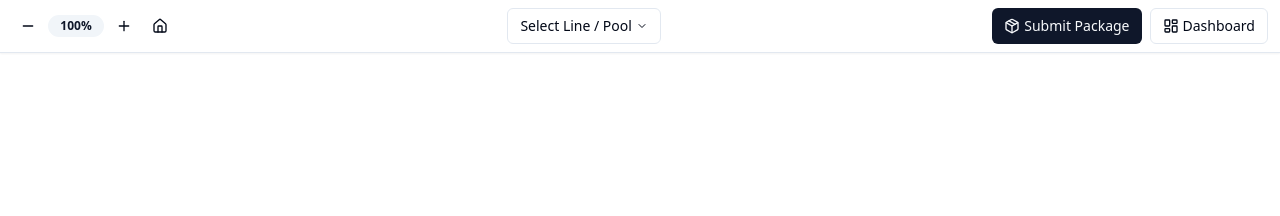
Test: FactoryToolbar › entity selector opens dropdown with assembly lines
The width and height of the screenshot is (1280, 216).
Click the button with test id "entity-selector-btn".
click(584, 26)  # box [507,8,661,44]
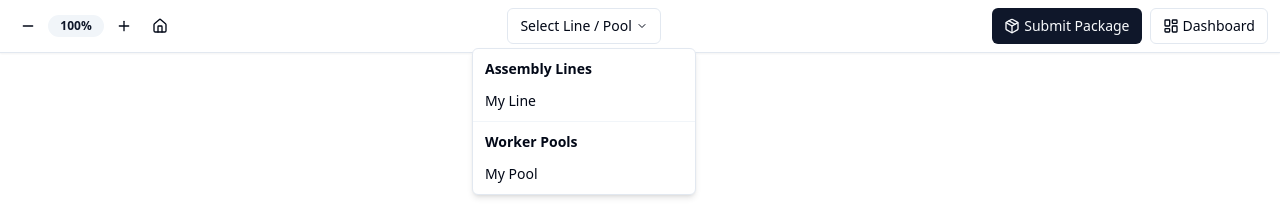
Result: the text "Assembly Lines" is shown at [485,59,592,78]
Result: the menu item "My Line" is shown at [485,91,536,110]
